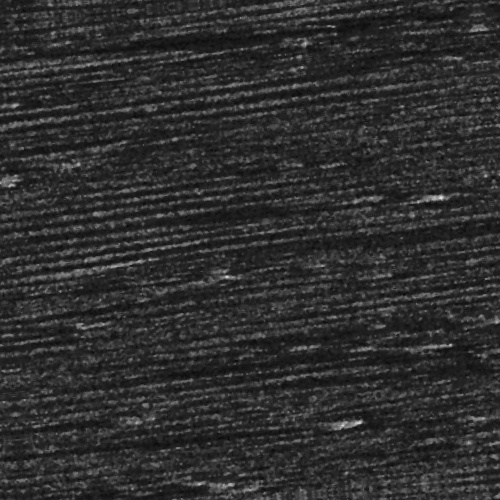object: (161, 265, 296, 278), (350, 355, 455, 368), (371, 208, 476, 219), (269, 424, 384, 433), (105, 399, 168, 408), (442, 366, 500, 373), (170, 474, 211, 483), (452, 338, 500, 343), (354, 205, 385, 210), (246, 347, 287, 350), (490, 382, 500, 389)
shadow: (141, 35, 500, 50), (74, 208, 423, 219), (138, 355, 402, 368), (137, 488, 500, 495), (44, 265, 228, 278), (63, 424, 326, 433), (225, 366, 483, 373), (137, 338, 483, 343), (270, 382, 500, 389), (276, 380, 500, 387), (296, 248, 500, 255), (331, 378, 500, 383), (44, 399, 136, 408), (101, 474, 190, 483), (346, 383, 500, 388), (281, 205, 369, 210), (176, 347, 266, 350)
